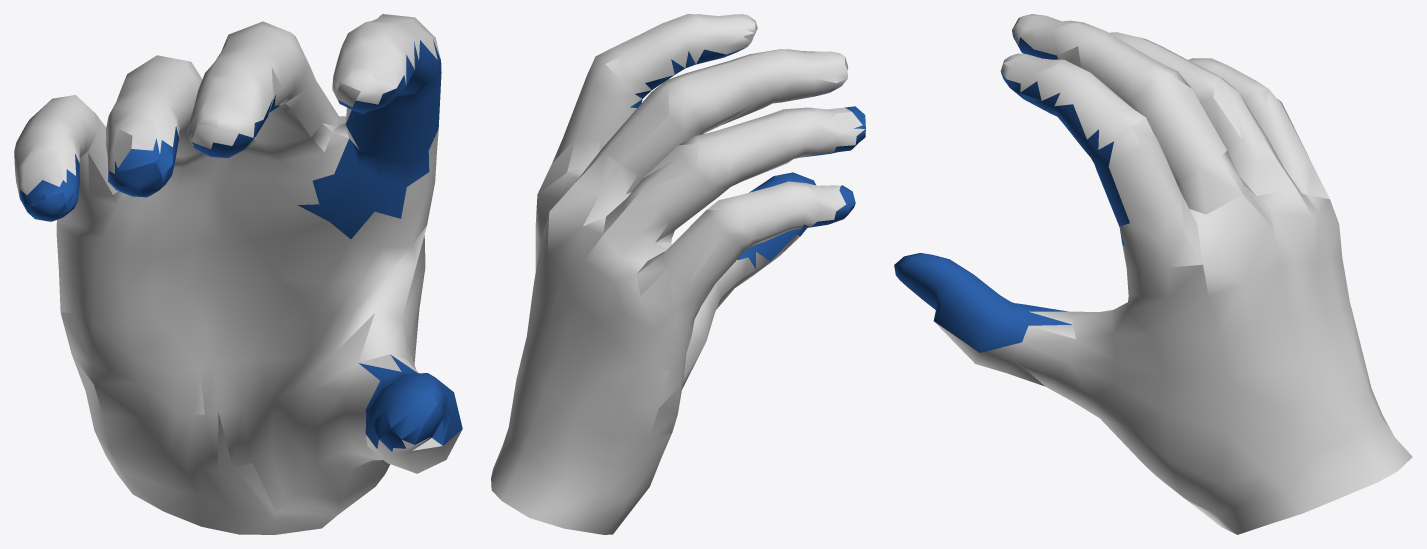
File: video_can.glb
3 renders of one model, left to right at view 1: azimuth 30°, elevation 25°; view 2: azimuth 150°, elevation 25°; view 3: azimuth 270°, elevation 25°, orthographic. The views are drawn at different scales.
Parts seen in each view (by area): view 1: mesh0; view 2: mesh0; view 3: mesh0.
Boxes of the visible parts, x1,y1,x2,y2 form: mesh0: (14, 14, 462, 534); mesh0: (491, 14, 865, 534); mesh0: (894, 14, 1412, 534).
Bounding box in the file's own units: 0.1103 × 0.1531 × 0.1599.
